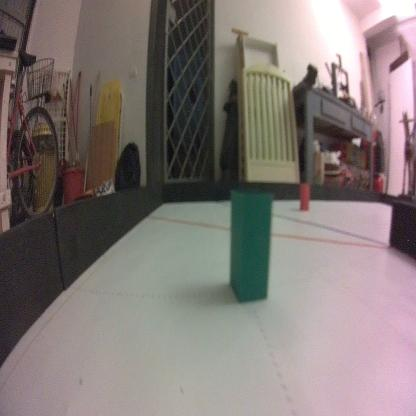green: (227, 185, 274, 304)
red: (300, 183, 310, 211)
